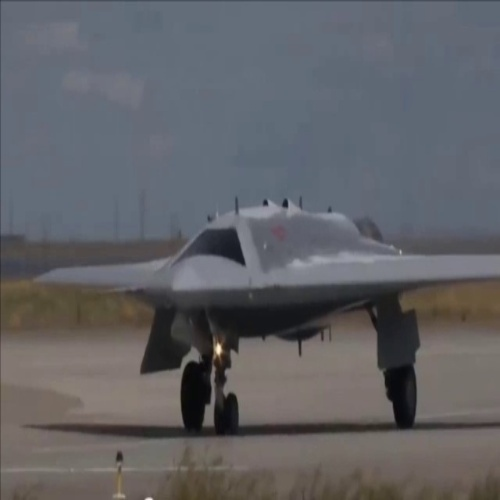uav971: (27, 197, 496, 438)
